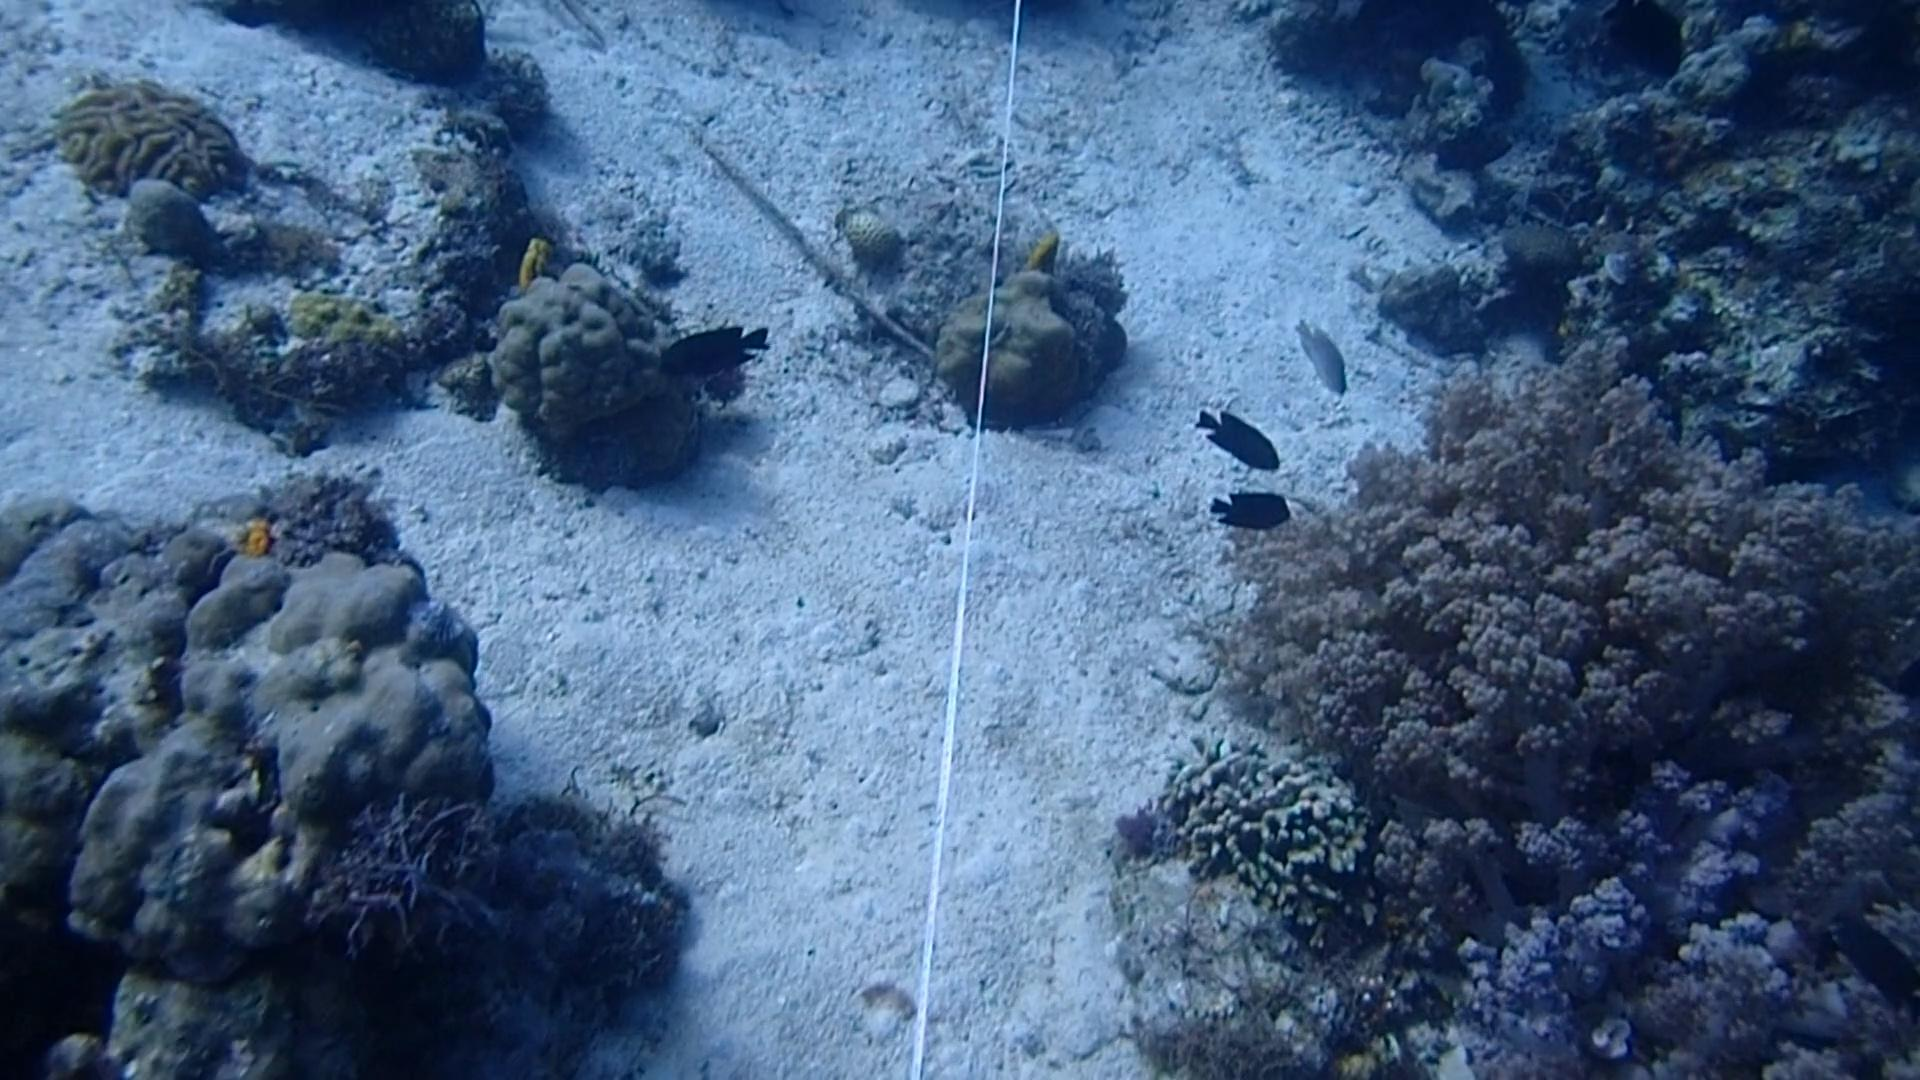Dark Fish: (1828, 907, 1920, 1019), (1179, 396, 1298, 480), (1601, 0, 1696, 84), (655, 315, 773, 381), (1207, 484, 1298, 542)
Light Fish: (1286, 305, 1361, 409)
